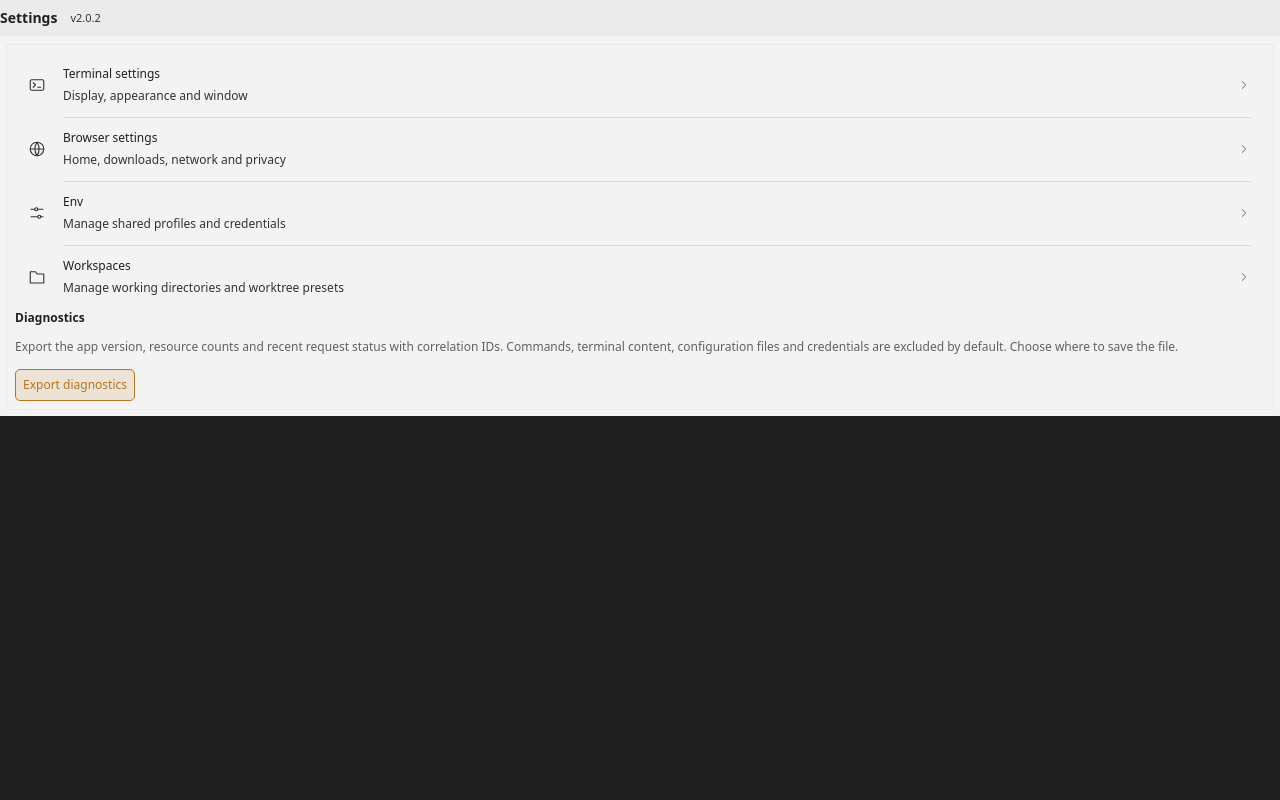
终端设置里的任务保存区快捷键 › 保存失败保留草稿与旧配置，并就地提示原因
The width and height of the screenshot is (1280, 800).
Click the button "Terminal settings" at (112, 74), box [15,53,1259,117]
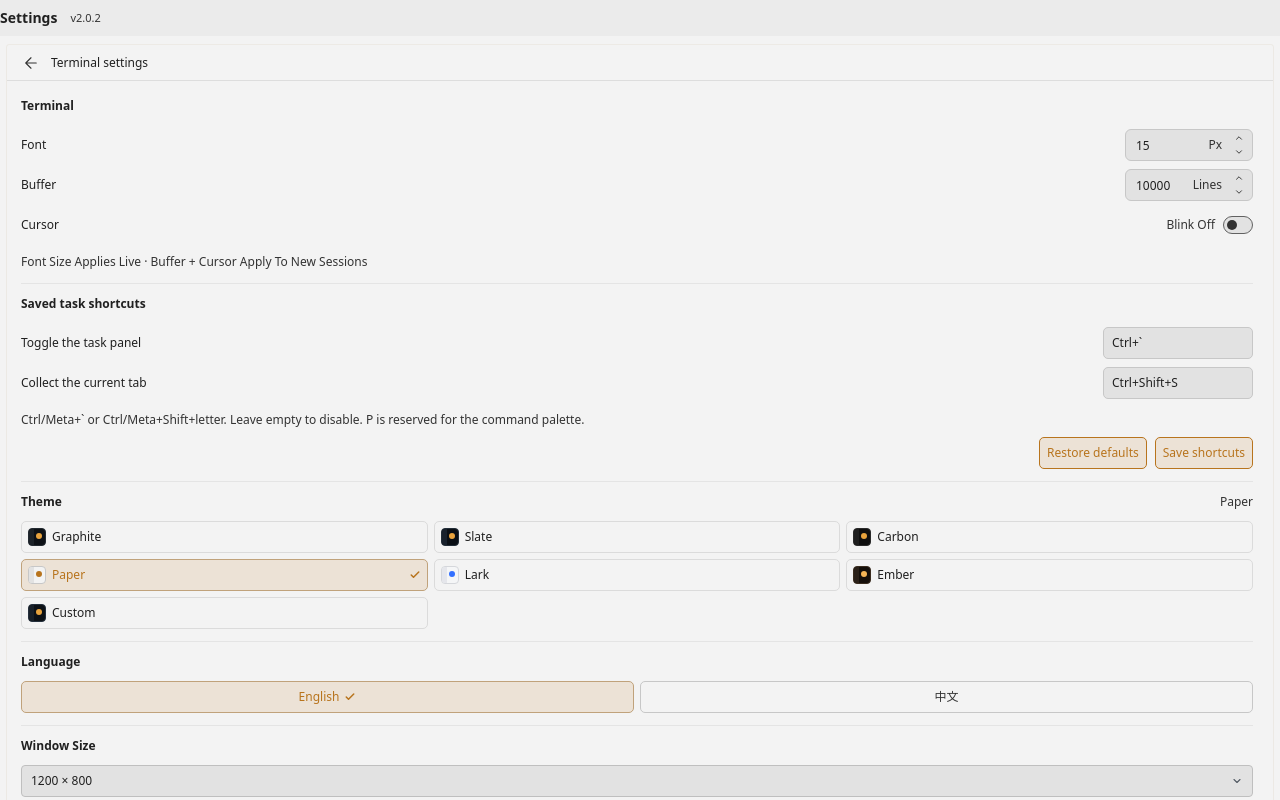
Type "Ctrl+Shift+P" into the field labelled "Collect the current tab" at (1178, 383), box [1103,367,1253,399]
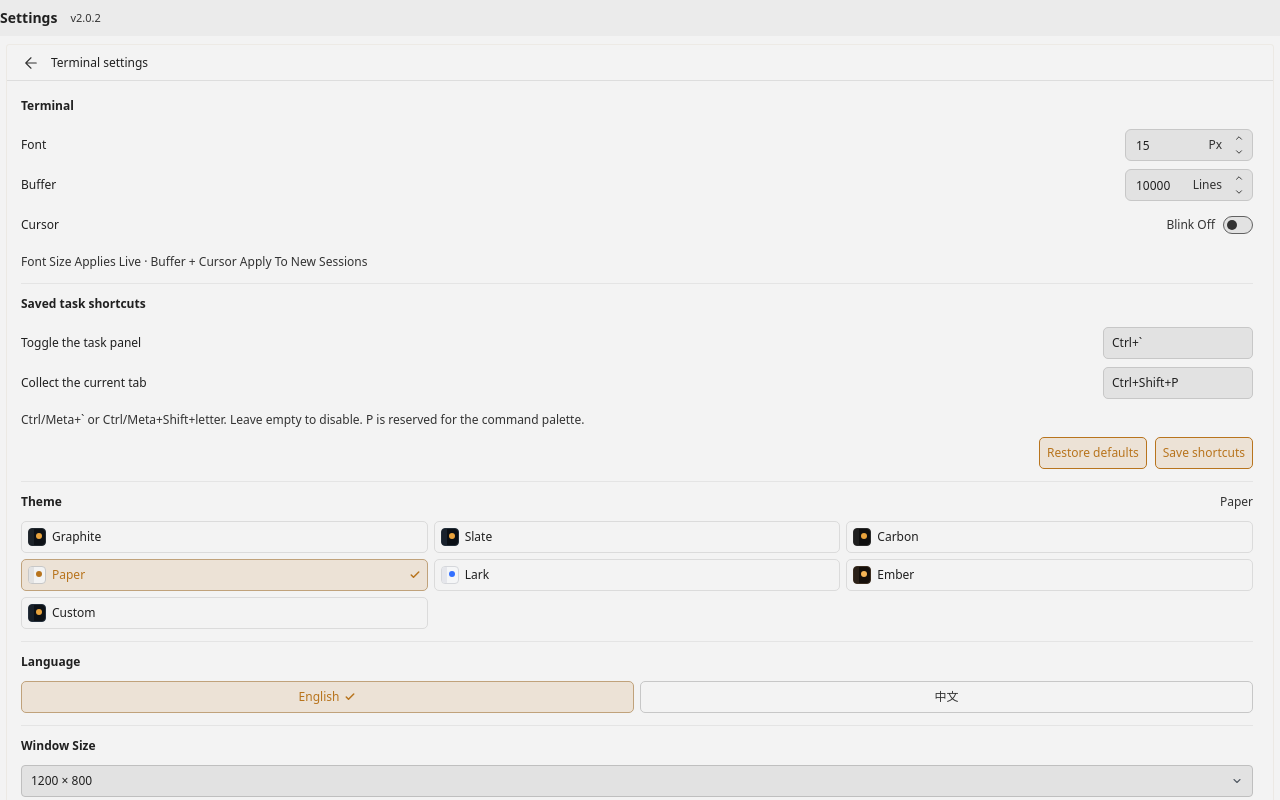
Click the button "Save shortcuts" at (1204, 453), box [1155,437,1253,469]
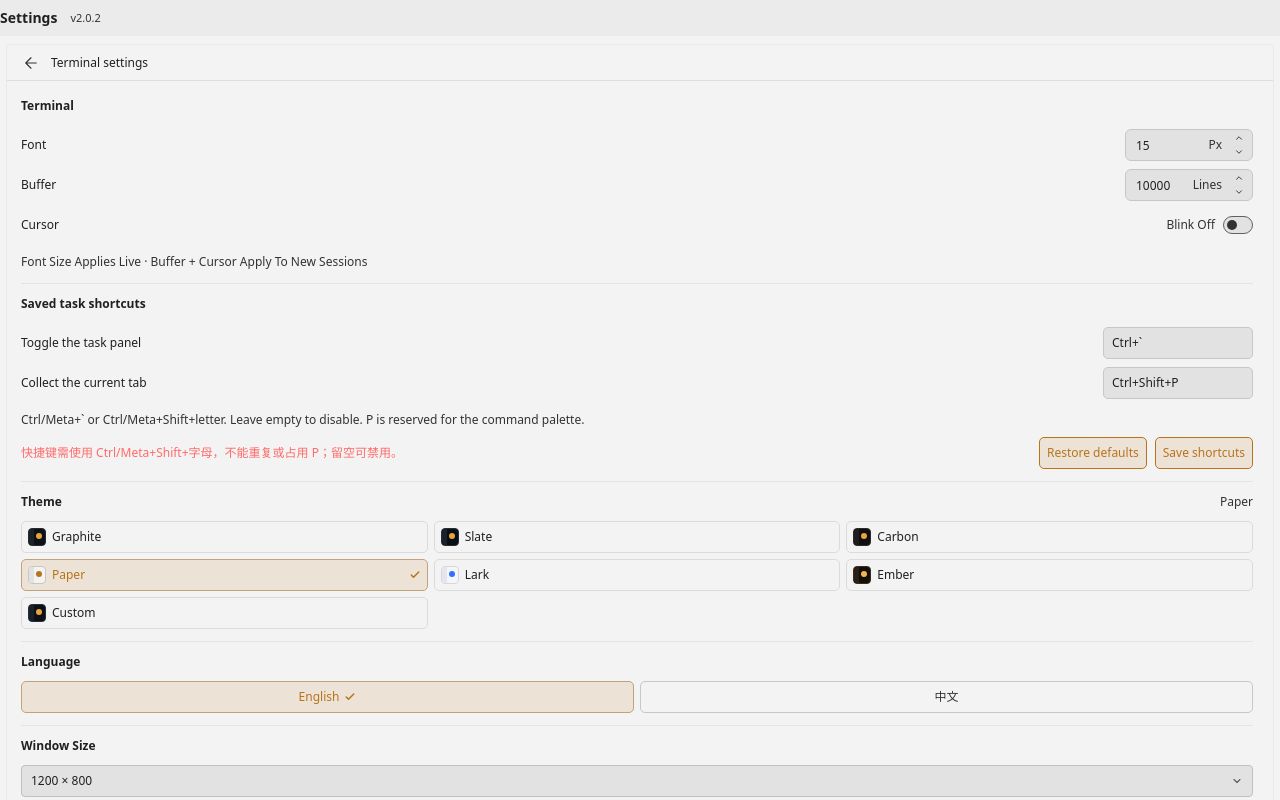
Expected: the message shows "快捷键", [21,444,403,462]
